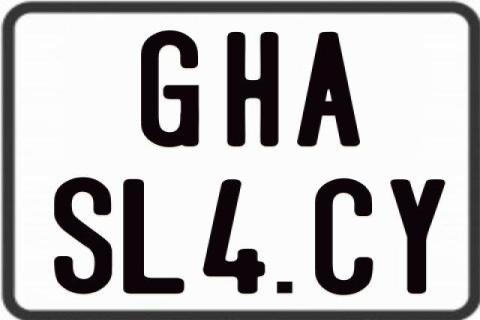0: (200, 177, 266, 295)
A: (295, 30, 363, 148)
C: (314, 178, 374, 296)
G: (138, 28, 196, 145)
H: (226, 31, 284, 146)
L: (122, 177, 187, 293)
S: (51, 174, 110, 296)
Y: (388, 179, 444, 297)
